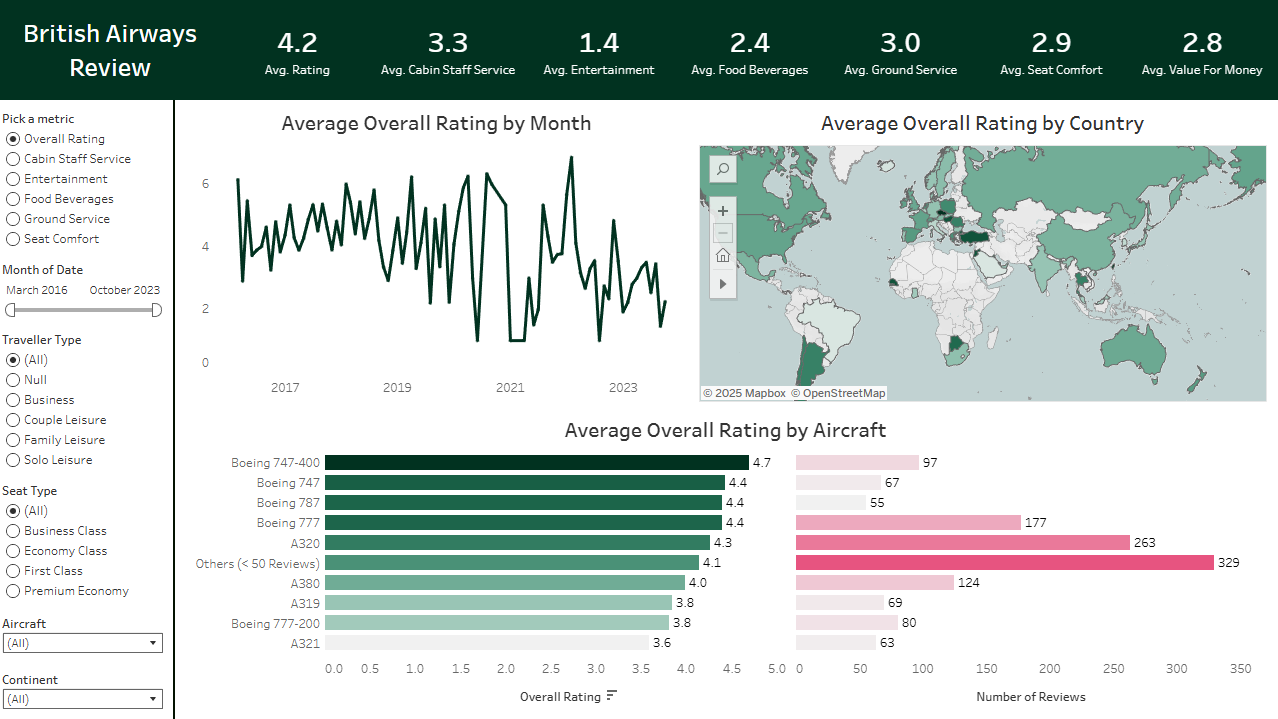

The page's visual inventory and layout, read from the dashboard file:
{"tool":"tableau","page":{"name":"Dashboard 1","canvas":[1280,720],"ordinal":0},"visuals":[{"type":"text","box":[0,0,224,100]},{"type":"worksheet","title":"Summary","mark":"Automatic","box":[224,0,1056,100]},{"type":"blank","box":[175,100,2,619]},{"type":"worksheet","title":"Month","mark":"Automatic","rows":["Calculation_1100004216210137088"],"cols":["date"],"box":[187,102,503,300]},{"type":"worksheet","title":"Map","mark":"Automatic","box":[701,102,568,300]},{"type":"parameter","param":"[Parameters].[Parameter 1]","box":[0,105,170,165]},{"type":"filter","title":"Map","param":"[federated.0t5eqoo15fvrg41d2gb7j1hg7mwh].[tmn:date:qk]","box":[0,270,170,69]},{"type":"filter","title":"Map","param":"[federated.0t5eqoo15fvrg41d2gb7j1hg7mwh].[none:traveller_type:nk]","box":[0,339,170,146]},{"type":"worksheet","title":"Aircraft","mark":"Automatic","cols":["Calculation_1100004216210137088","ba_reviews.csv_B1D003AC24ED4559B58ED084C7F521A8"],"box":[187,409,1081,301]},{"type":"filter","title":"Map","param":"[federated.0t5eqoo15fvrg41d2gb7j1hg7mwh].[none:seat_type:nk]","box":[0,485,170,127]},{"type":"filter","title":"Map","param":"[federated.0t5eqoo15fvrg41d2gb7j1hg7mwh].[Aircraft (group)]","box":[0,612,170,52]},{"type":"filter","title":"Map","param":"[federated.0t5eqoo15fvrg41d2gb7j1hg7mwh].[none:Continent:nk]","box":[0,664,170,52]}]}

Visuals, with their boxes in screenshot pixels (x1, y1, x2, y2), scaled from the page's 1280x720 canvas onto the 1278x719 screenshot:
text: box=[0, 0, 224, 100]
"Summary" worksheet: box=[224, 0, 1277, 100]
blank: box=[175, 100, 177, 718]
"Month" worksheet: box=[187, 102, 689, 401]
"Map" worksheet: box=[700, 102, 1267, 401]
parameter: box=[0, 105, 170, 270]
"Map" filter: box=[0, 270, 170, 339]
"Map" filter: box=[0, 339, 170, 484]
"Aircraft" worksheet: box=[187, 408, 1266, 709]
"Map" filter: box=[0, 484, 170, 611]
"Map" filter: box=[0, 611, 170, 663]
"Map" filter: box=[0, 663, 170, 715]
